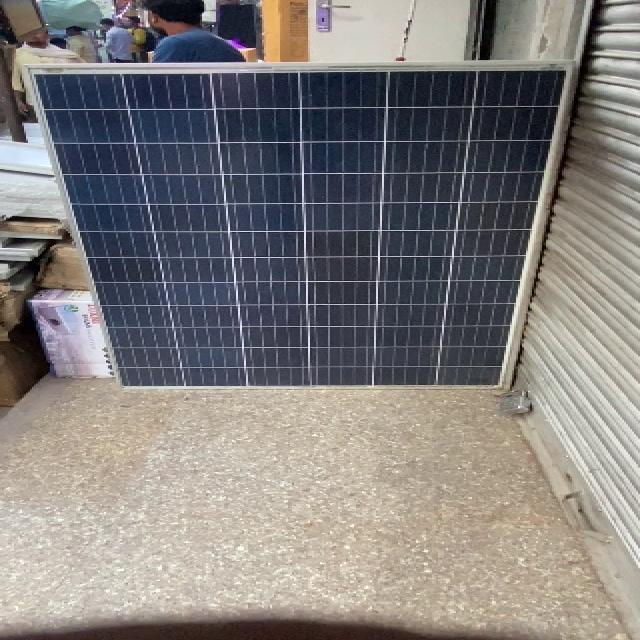no faulty: (36, 62, 572, 386)
